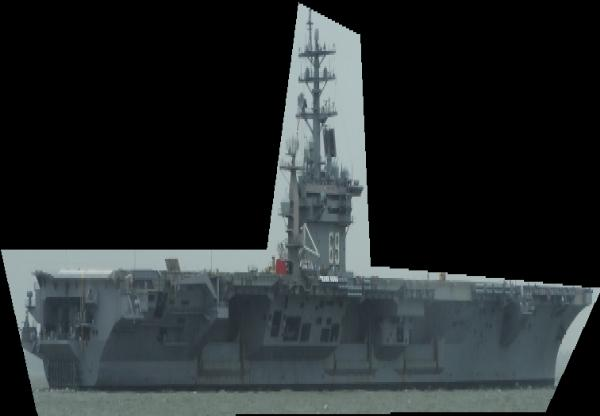Aircraft Carrier: (1, 2, 600, 416)
